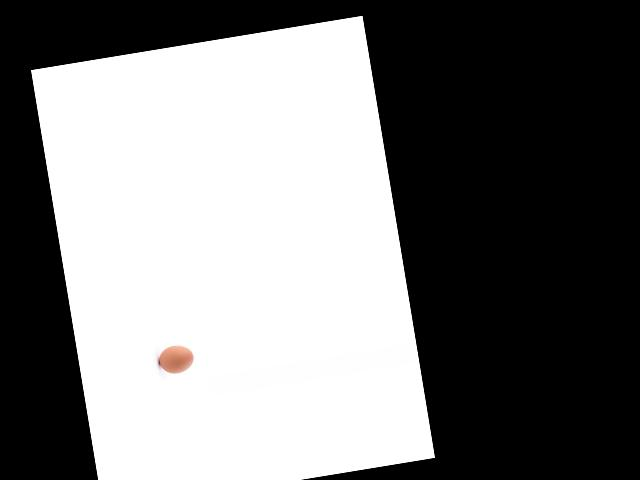egg: (157, 343, 195, 376)
